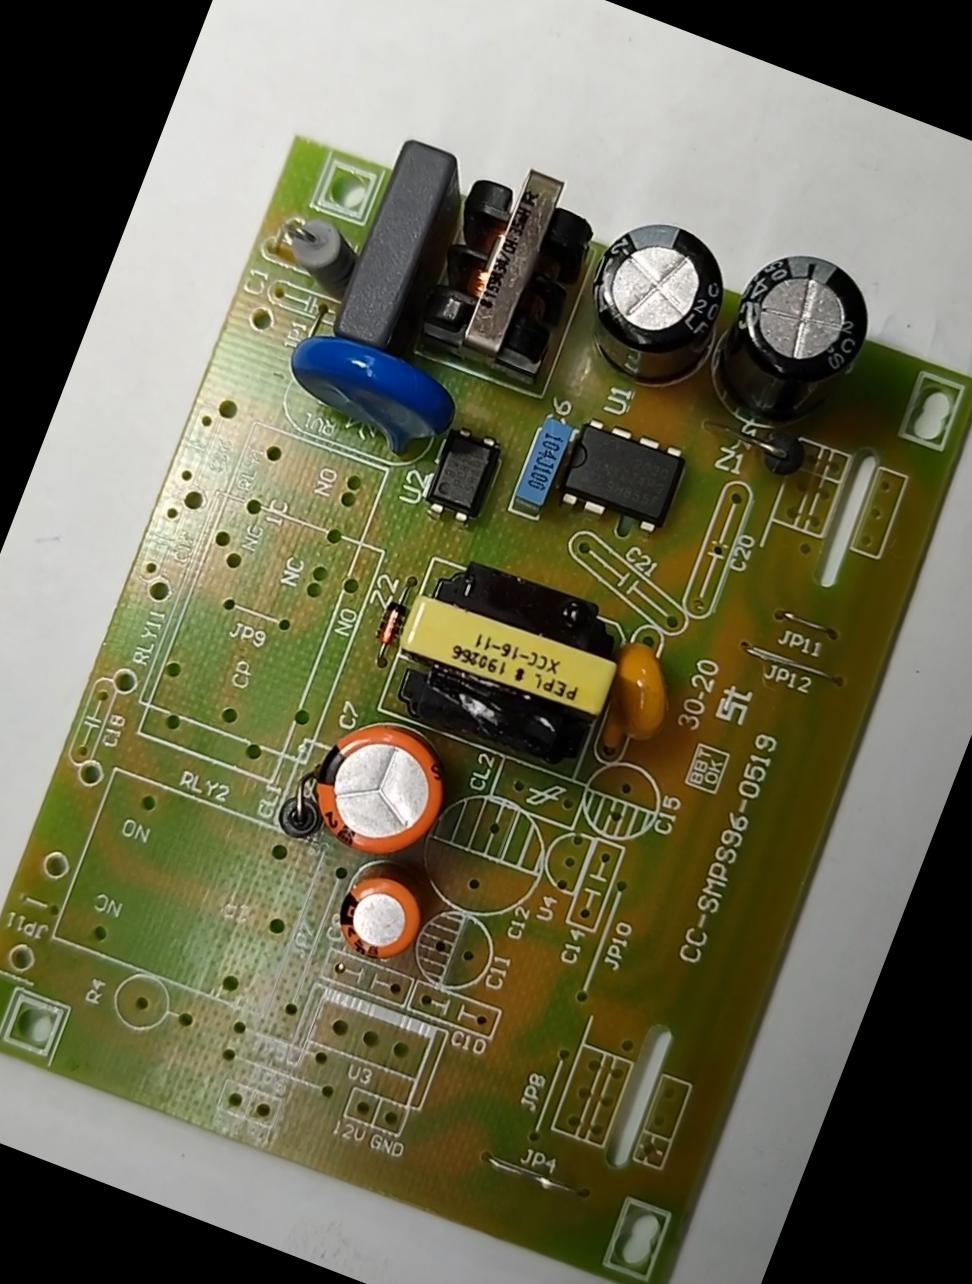Cap1: (292, 698, 464, 876)
Cap2: (323, 861, 430, 975)
Cap3: (563, 203, 747, 409)
Cap4: (695, 234, 888, 453)
MOSFET: (554, 413, 691, 543)
Mov: (265, 319, 469, 475)
Resistor: (271, 204, 368, 301)
Transformer: (375, 543, 640, 781), (401, 142, 610, 388)
